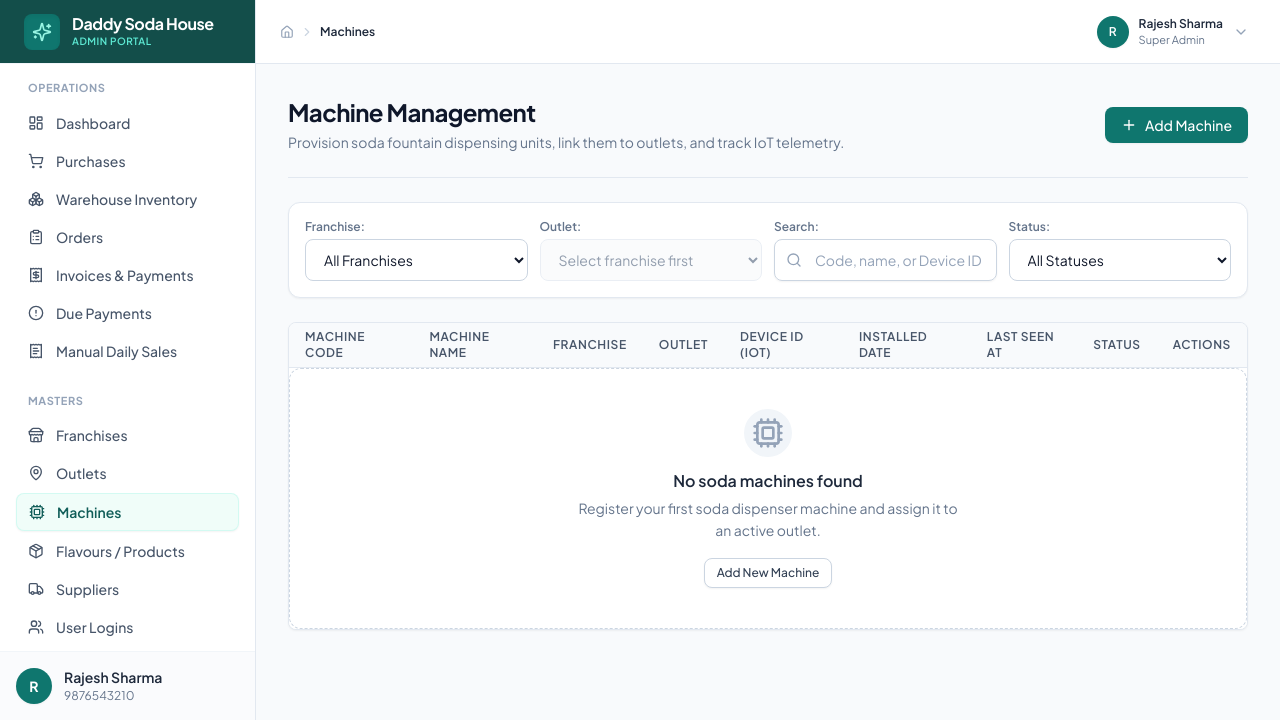
Test: Daddy Soda House Master Data Module › disables machine outlet selector until a franchise is selected in Machine form
The image size is (1280, 720).
Click the button "Add Machine" at (1177, 124), box [1105, 106, 1248, 142]
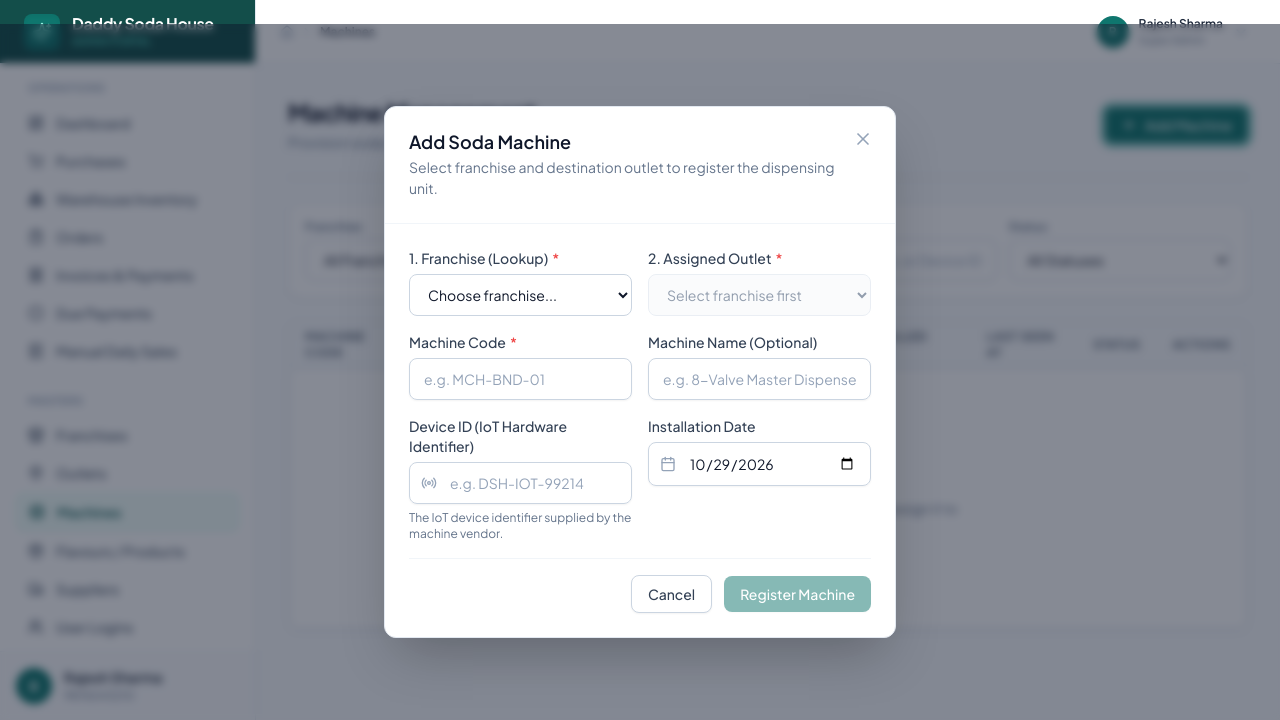
expect the dropdown labelled "2. Assigned Outlet*" is disabled: met, box [648, 274, 871, 316]
Note: Select franchise
Select "Daddy Soda Bandra (FR-MUM-01)" in the dropdown labelled "1. Franchise (Lookup)*" at (520, 295), box [409, 274, 632, 316]
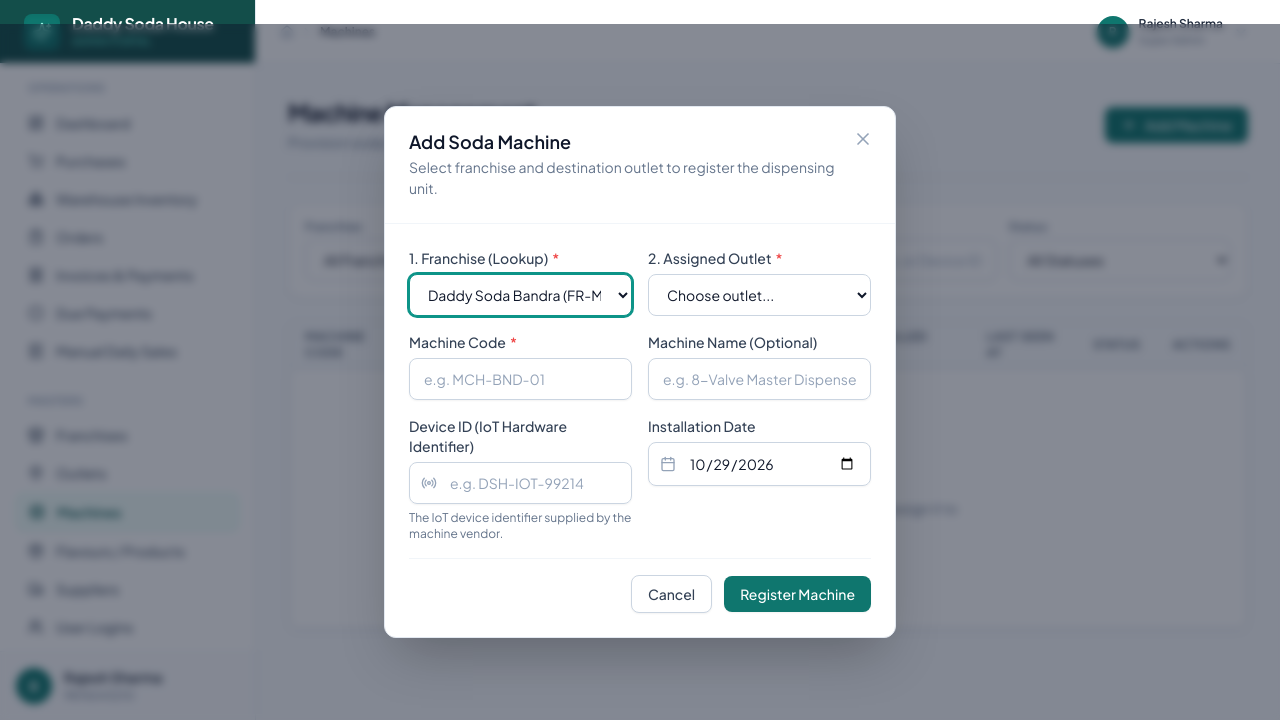
expect the dropdown labelled "2. Assigned Outlet*" is enabled: met, box [648, 274, 871, 316]
